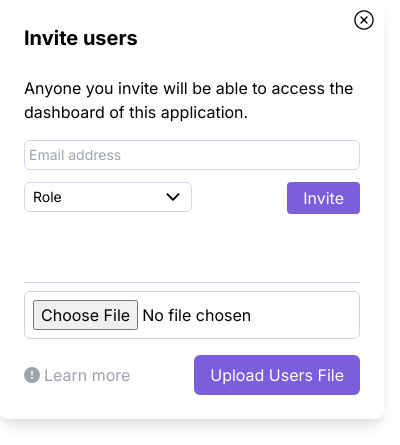
InviteForm › handles role selection
Click the button "Role". click: (108, 197)
box: 24,182 -> 192,212
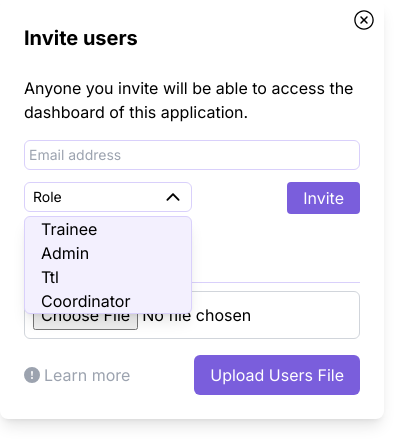
Click the text "Admin". click: (65, 253)
box: 41,243 -> 89,263
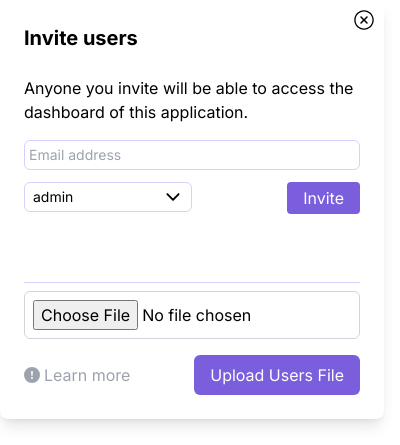
Result: the button "Role" reads "admin" at 24,182 -> 192,212
